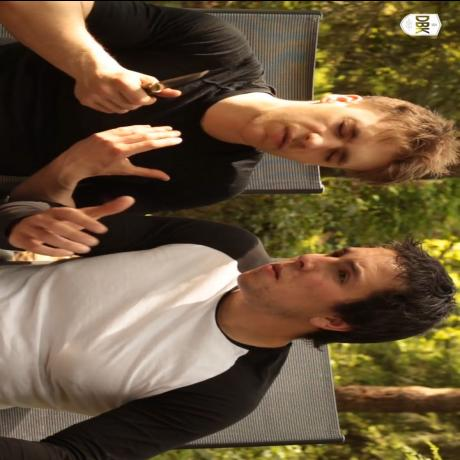1: (0, 204, 458, 460), (1, 0, 459, 212)
weapon: (144, 66, 224, 94)
